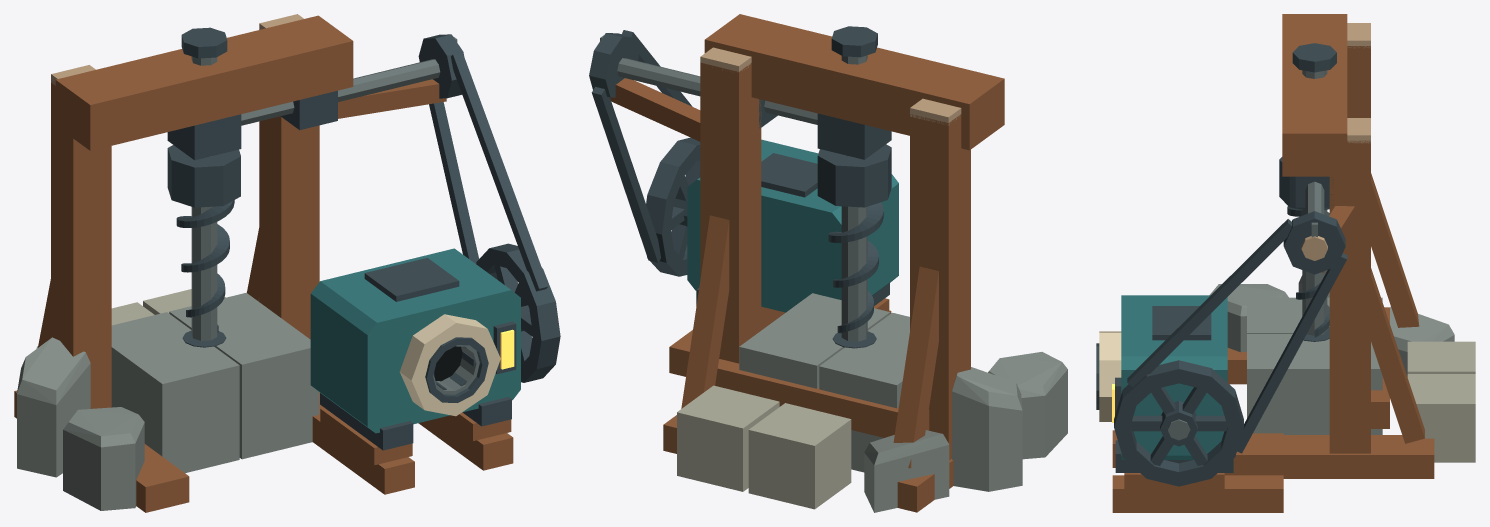
Rendered from quarry.glb.
3 renders of one model, left to right at view 1: azimuth 30°, elevation 25°; view 2: azimuth 150°, elevation 25°; view 3: azimuth 270°, elevation 25°, orthographic. The views are drawn at different scales.
Visible parts, largest first — view 1: Quarry Timber, Quarry Stone, SharedGenerator_teal, Quarry Iron, SharedGenerator_iron, FlywheelPivot_iron, SharedGenerator_cream, Spindle collar, Drill spindle, Quarry Steel, Spiral cutting flight, Drive pulley (+5 smaller); view 2: Quarry Timber, Quarry Stone, Quarry Cut stone, SharedGenerator_teal, Quarry Iron, FlywheelPivot_iron, Spindle collar, Drill spindle, Quarry Steel, SharedGenerator_iron, Spiral cutting flight, Drive pulley (+2 smaller); view 3: Quarry Timber, Quarry Stone, FlywheelPivot_iron, SharedGenerator_teal, Quarry Cut stone, Quarry Iron, SharedGenerator_iron, Drive pulley, SharedGenerator_cream, Quarry Cut wood, Top spindle cap, Drill spindle (+4 smaller).
Boxes of the visible parts, box(x1,y1,x2,y2) form: Quarry Timber: box(14, 15, 513, 512); Quarry Stone: box(17, 292, 319, 510); SharedGenerator_teal: box(310, 248, 520, 433); Quarry Iron: box(167, 52, 548, 347); SharedGenerator_iron: box(320, 258, 516, 450); FlywheelPivot_iron: box(476, 243, 560, 382); SharedGenerator_cream: box(399, 314, 500, 416); Spindle collar: box(167, 145, 240, 207); Drill spindle: box(191, 56, 217, 340); Quarry Steel: box(241, 59, 440, 125); Spiral cutting flight: box(176, 200, 234, 332); Drive pulley: box(418, 34, 463, 98); Quarry Timber: box(610, 14, 1004, 512); Quarry Stone: box(739, 293, 1067, 512); Quarry Cut stone: box(677, 385, 851, 509); SharedGenerator_teal: box(687, 139, 898, 312); Quarry Iron: box(591, 30, 891, 348); FlywheelPivot_iron: box(646, 137, 700, 276); Spindle collar: box(817, 144, 891, 207); Drill spindle: box(841, 55, 867, 341); Quarry Steel: box(617, 58, 817, 124); SharedGenerator_iron: box(696, 153, 889, 305); Spiral cutting flight: box(828, 202, 883, 333); Drive pulley: box(589, 33, 638, 97); Quarry Timber: box(1112, 14, 1434, 512); Quarry Stone: box(1209, 275, 1454, 434); FlywheelPivot_iron: box(1114, 360, 1243, 486); SharedGenerator_teal: box(1121, 295, 1227, 459); Quarry Cut stone: box(1407, 341, 1475, 462); Quarry Iron: box(1127, 176, 1347, 453); SharedGenerator_iron: box(1096, 306, 1233, 472); Drive pulley: box(1283, 211, 1345, 274); SharedGenerator_cream: box(1099, 331, 1121, 421); Quarry Cut wood: box(1347, 23, 1370, 143); Top spindle cap: box(1292, 43, 1336, 72); Drill spindle: box(1302, 70, 1327, 335).
Size of the model in its own units: 1.57 by 1.38 by 1.28.
